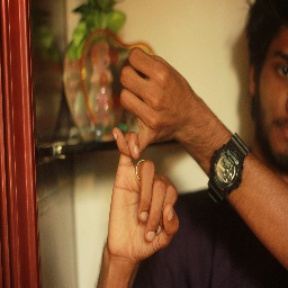S: (102, 47, 197, 253)
